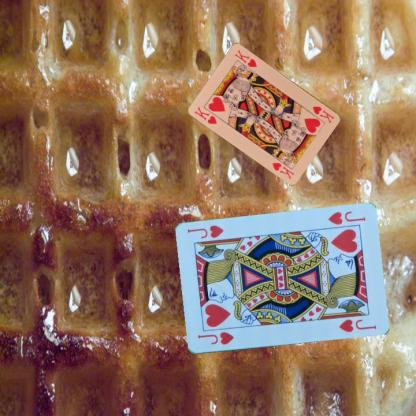Jh: (325, 209, 367, 227), (194, 329, 235, 347)
Kh: (192, 104, 218, 126), (310, 104, 336, 125)
